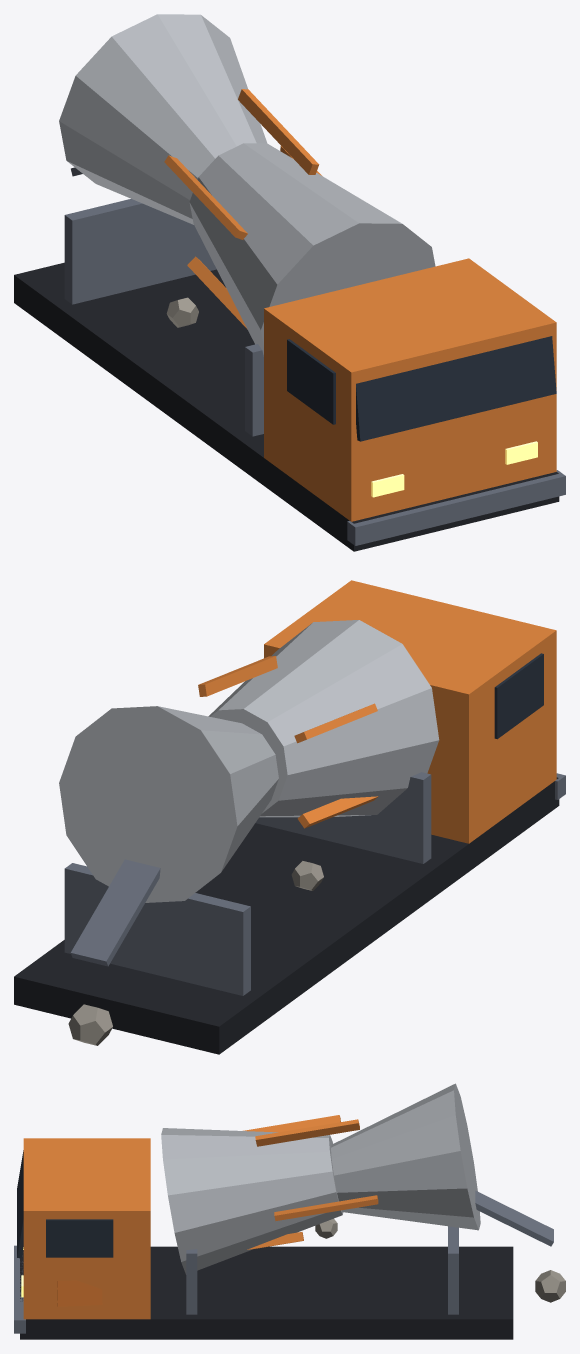
The model's file is cement_mixer.glb.
3 views of the same model, one above another, from view 1: azimuth 30°, elevation 25°; view 2: azimuth 150°, elevation 25°; view 3: azimuth 270°, elevation 25° (orthographic). The views are drawn at different scales.
Visible parts, largest first — view 1: drum_mixer_drum, body_builder_orange, body_car_black, body_truck_glass, frame_car_grey, body_car_grey, fins_mixer_fin, lights_lamp, blobs_cement; view 2: drum_mixer_drum, body_car_black, body_builder_orange, frame_car_grey, chute_car_grey, fins_mixer_fin, body_truck_glass, blobs_cement; view 3: body_car_black, drum_mixer_drum, body_builder_orange, body_truck_glass, fins_mixer_fin, frame_car_grey, chute_car_grey, blobs_cement, body_builder_dent, body_car_grey.
Boxes of the visible parts, x1=… form: drum_mixer_drum: x1=59, y1=14, x2=435, y2=356; body_builder_orange: x1=264, y1=258, x2=556, y2=521; body_car_black: x1=14, y1=262, x2=559, y2=551; body_truck_glass: x1=287, y1=336, x2=556, y2=441; frame_car_grey: x1=64, y1=199, x2=263, y2=436; body_car_grey: x1=347, y1=470, x2=565, y2=545; fins_mixer_fin: x1=164, y1=89, x2=321, y2=329; lights_lamp: x1=371, y1=441, x2=537, y2=497; blobs_cement: x1=166, y1=297, x2=198, y2=327; drum_mixer_drum: x1=59, y1=620, x2=439, y2=902; body_car_black: x1=14, y1=777, x2=559, y2=1054; body_builder_orange: x1=264, y1=580, x2=556, y2=843; frame_car_grey: x1=64, y1=772, x2=431, y2=995; chute_car_grey: x1=70, y1=859, x2=160, y2=966; fins_mixer_fin: x1=198, y1=656, x2=378, y2=828; body_truck_glass: x1=494, y1=653, x2=543, y2=739; blobs_cement: x1=68, y1=861, x2=323, y2=1045; body_car_black: x1=20, y1=1246, x2=513, y2=1339; drum_mixer_drum: x1=161, y1=1083, x2=480, y2=1274; body_builder_orange: x1=23, y1=1138, x2=150, y2=1319; body_truck_glass: x1=17, y1=1150, x2=113, y2=1258; fins_mixer_fin: x1=243, y1=1115, x2=378, y2=1249; frame_car_grey: x1=186, y1=1226, x2=458, y2=1314; chute_car_grey: x1=475, y1=1190, x2=553, y2=1246; blobs_cement: x1=315, y1=1218, x2=565, y2=1302; body_builder_dent: x1=57, y1=1280, x2=102, y2=1306; body_car_grey: x1=14, y1=1245, x2=25, y2=1333.
Bounding box in the file's own units: 2.44 × 3.14 × 7.39.
